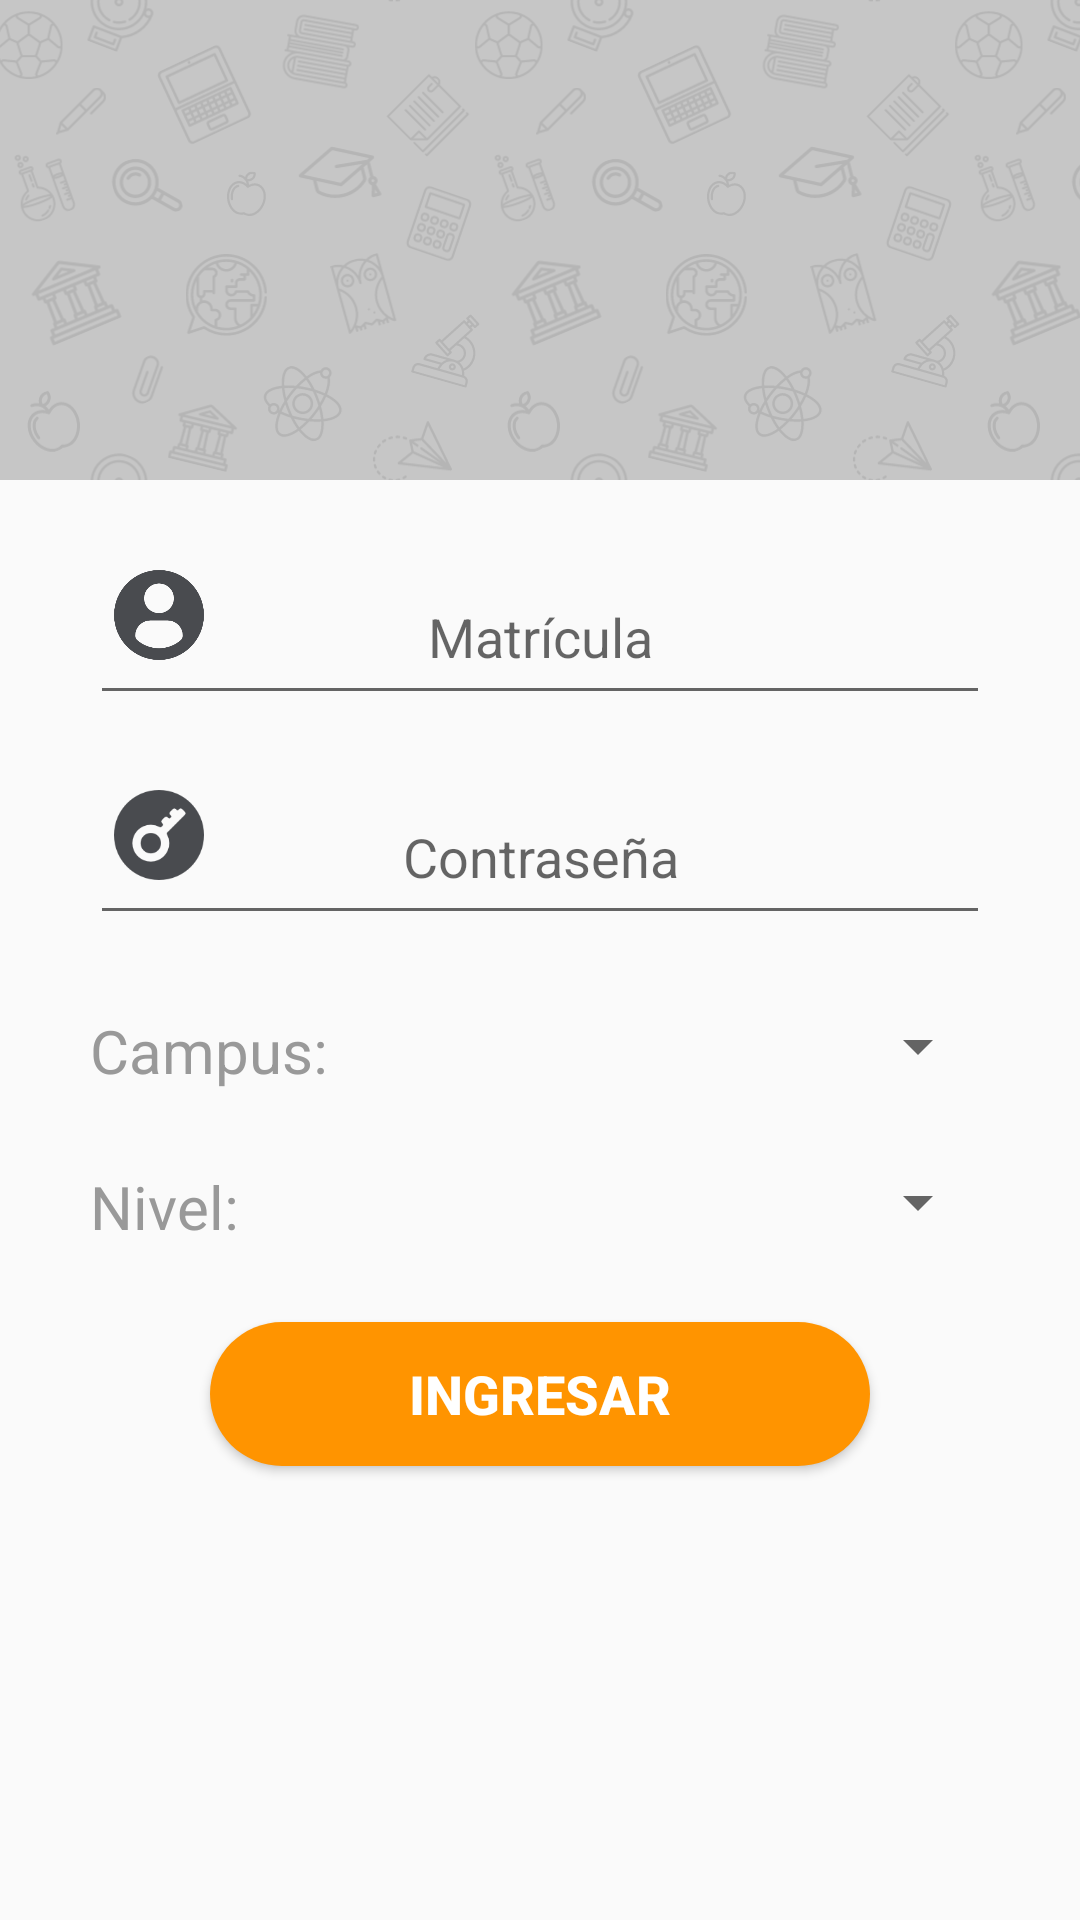

Icons on this 1080x1920 Android screen, each with its box as (x1, y1, x2, y2):
key: (114, 790, 204, 880)
profile: (114, 570, 204, 660)
